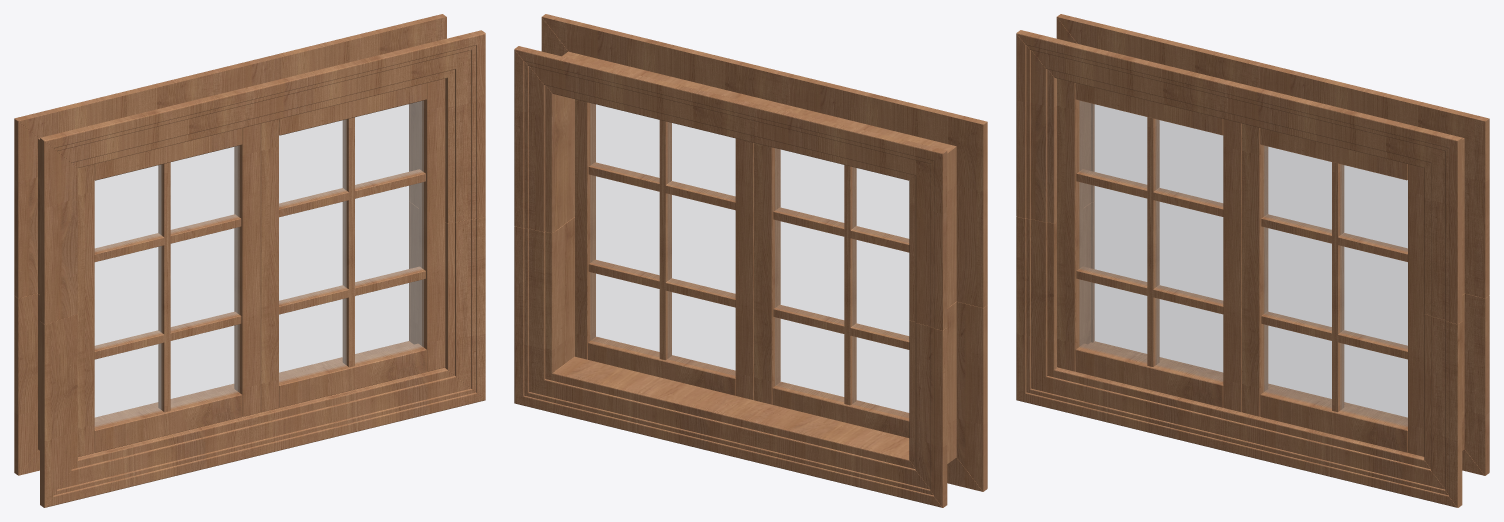
File: window.glb
3 views of the same model, side by side, from view 1: azimuth 30°, elevation 25°; view 2: azimuth 150°, elevation 25°; view 3: azimuth 330°, elevation 25° (orthographic).
Visible parts, largest first — view 1: d2.008, d2.006, Plane002, d2.007, d2.005; view 2: d2.008, d2.006, d2.007, d2.005; view 3: d2.008, d2.006, Plane002, d2.005, d2.007.
Part boxes in pixels (box(x1,y1,x2,y2)): d2.008: box(14, 14, 485, 507); d2.006: box(95, 101, 423, 426); Plane002: box(95, 101, 421, 425); d2.007: box(260, 78, 445, 412); d2.005: box(78, 123, 260, 456); d2.008: box(514, 14, 987, 507); d2.006: box(590, 103, 908, 417); d2.007: box(575, 99, 753, 400); d2.005: box(754, 143, 909, 437); d2.008: box(1016, 14, 1489, 507); d2.006: box(1079, 101, 1407, 426); Plane002: box(1080, 101, 1407, 425); d2.005: box(1057, 78, 1241, 412); d2.007: box(1242, 123, 1424, 456).
Bounding box in the file's own units: 0.9914 × 0.7878 × 0.1465.
2 materials, 1 textured.
